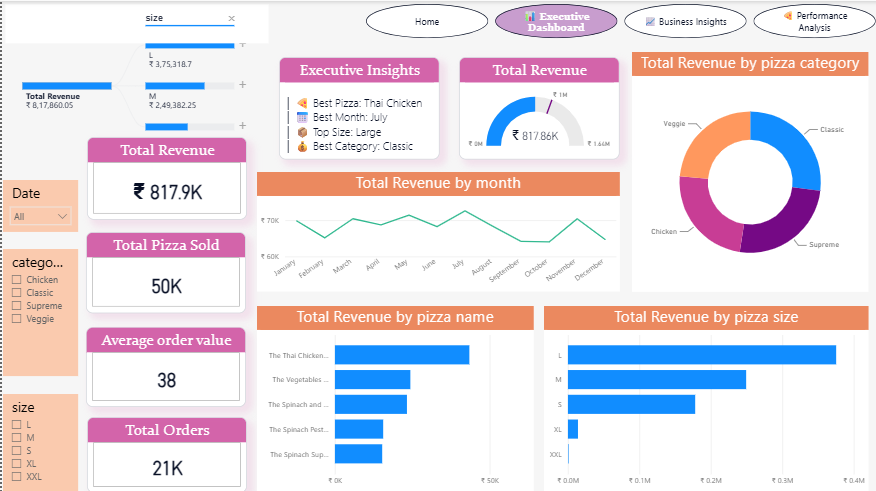

Layout of this report page (visuals, bound fields, positions):
{"tool":"powerbi","page":{"name":"📊 Executive Dashboard","canvas":[1280,720],"ordinal":1},"visuals":[{"type":"cardVisual","title":"Total Revenue","fields":{"Data":["Table.Total Revenue"]},"box":[124.4,199,234.1,121.5],"z":0},{"type":"cardVisual","title":"Total Orders","fields":{"Data":["orders.Total Orders"]},"box":[124.4,608.8,234.1,111.2],"z":1000},{"type":"cardVisual","title":"Total Pizza Sold","fields":{"Data":["orders_details.Total Pizzas Sold"]},"box":[122.9,338,234.1,118.5],"z":2000},{"type":"cardVisual","title":"Average order value","fields":{"Data":["orders.Average Order Value"]},"box":[122.9,477.1,234.1,117.1],"z":3000},{"type":"lineChart","fields":{"Y":["Table.Total Revenue"],"Category":["orders.month"]},"box":[372.9,250.3,530.8,174.7],"z":4000},{"type":"donutChart","title":"Total Revenue by pizza category","fields":{"Category":["pizza_types.category"],"Y":["orders_details.Total Revenue"]},"box":[922.2,73.9,346,351.1],"z":5000},{"type":"barChart","title":"Total Revenue by pizza name","fields":{"Category":["pizza_types.name"],"Y":["orders_details.Total Revenue"]},"box":[372.9,446.8,404.8,273.8],"z":6000},{"type":"clusteredBarChart","title":"Total Revenue by pizza size","fields":{"Category":["pizzas.size"],"Y":["orders_details.Total Revenue"]},"box":[792.9,446.8,475.4,273.8],"z":7000},{"type":"slicer","fields":{"Values":["pizza_types.category"]},"box":[1.5,362.9,109.8,185.9],"z":8000},{"type":"slicer","fields":{"Values":["pizzas.size"]},"box":[1.5,575.1,109.8,144.9],"z":9000},{"type":"slicer","fields":{"Values":["Calendar.Date"]},"box":[1.5,262,109.8,76.1],"z":10000},{"type":"gauge","fields":{"Y":["Table.Total Revenue"]},"box":[668.6,82.3,235.2,149.5],"z":11000},{"type":"textbox","title":"Executive Insights","box":[404.8,82.3,235.2,149.5],"z":12000},{"type":"pageNavigator","box":[532.6,4.3,747.4,50.4],"z":13000},{"type":"decompositionTreeVisual","fields":{"Analyze":["Table.Total Revenue"],"ExplainBy":["pizzas.size","pizza_types.name","Calendar.Month Name","pizza_types.category"]},"box":[0,0,395.1,199],"z":14000}]}

Visuals, with their boxes on the page's 1280x720 design canvas (x1, y1, x2, y2). These are canvas units, not pixel positions in the 876x491 screenshot, which may show the page scaled, cropped or inside an application window:
"Total Revenue" cardVisual: region(124, 199, 358, 320)
"Total Orders" cardVisual: region(124, 609, 358, 720)
"Total Pizza Sold" cardVisual: region(123, 338, 357, 456)
"Average order value" cardVisual: region(123, 477, 357, 594)
lineChart - Table.Total Revenue x orders.month: region(373, 250, 904, 425)
"Total Revenue by pizza category" donutChart: region(922, 74, 1268, 425)
"Total Revenue by pizza name" barChart: region(373, 447, 778, 721)
"Total Revenue by pizza size" clusteredBarChart: region(793, 447, 1268, 721)
slicer - pizza_types.category: region(2, 363, 111, 549)
slicer - pizzas.size: region(2, 575, 111, 720)
slicer - Calendar.Date: region(2, 262, 111, 338)
gauge - Table.Total Revenue: region(669, 82, 904, 232)
"Executive Insights" textbox: region(405, 82, 640, 232)
pageNavigator: region(533, 4, 1280, 55)
decompositionTreeVisual - Table.Total Revenue x pizzas.size: region(0, 0, 395, 199)
